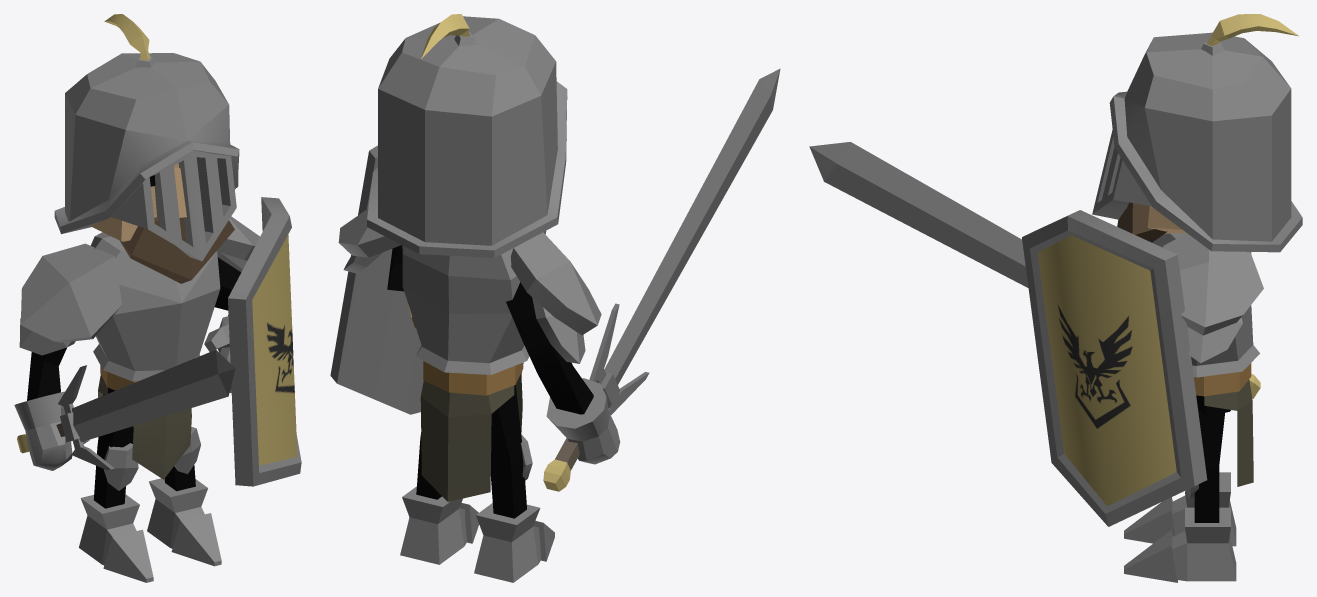
3 renders of one model, left to right at view 1: azimuth 30°, elevation 25°; view 2: azimuth 150°, elevation 25°; view 3: azimuth 270°, elevation 25°, orthographic. The views are drawn at different scales.
Parts seen in each view (by area): view 1: Soldier_5; view 2: Soldier_5; view 3: Soldier_5.
Boxes of the visible parts, bbox=[...] form: Soldier_5: bbox=[14, 14, 301, 582]; Soldier_5: bbox=[330, 14, 780, 582]; Soldier_5: bbox=[809, 14, 1302, 582].
Size of the model in its own units: 0.9655 by 1.81 by 1.49.
10 materials, 1 textured.
